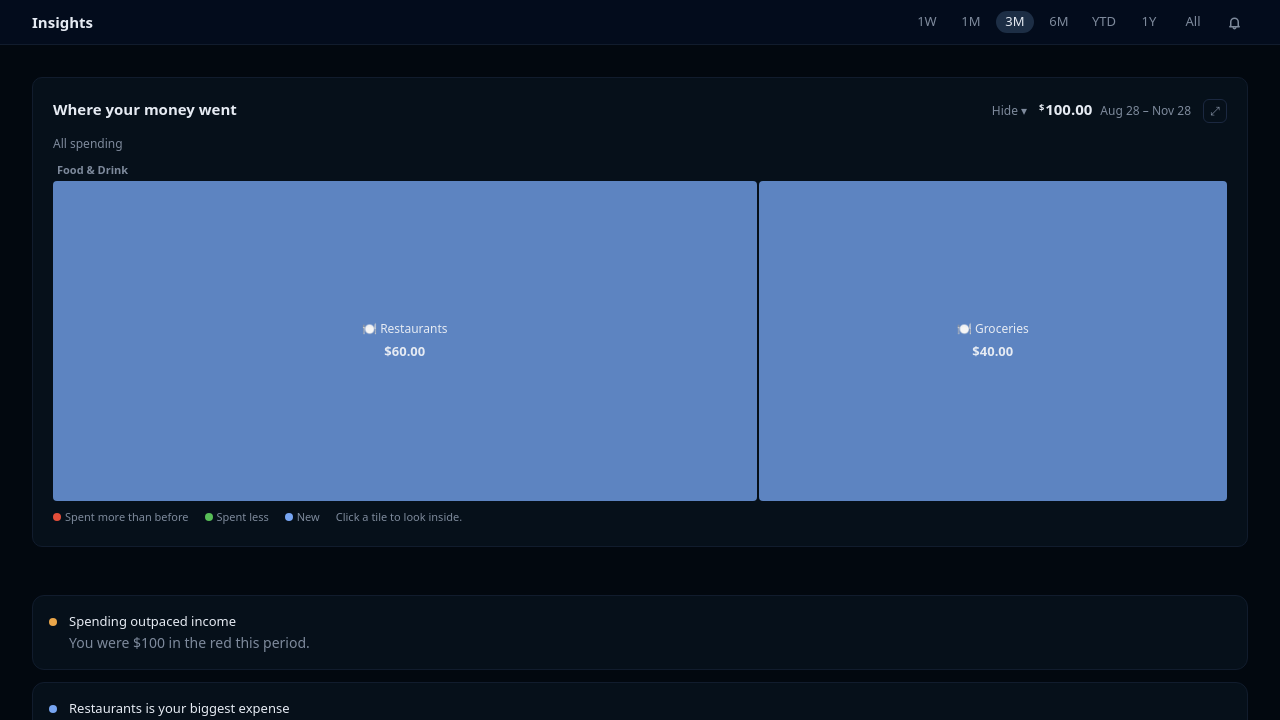
Insights spending map › reshapes when the range changes
Click the radio button labelled "1Y" at coordinates (1149, 22), box [1130,11,1168,33]
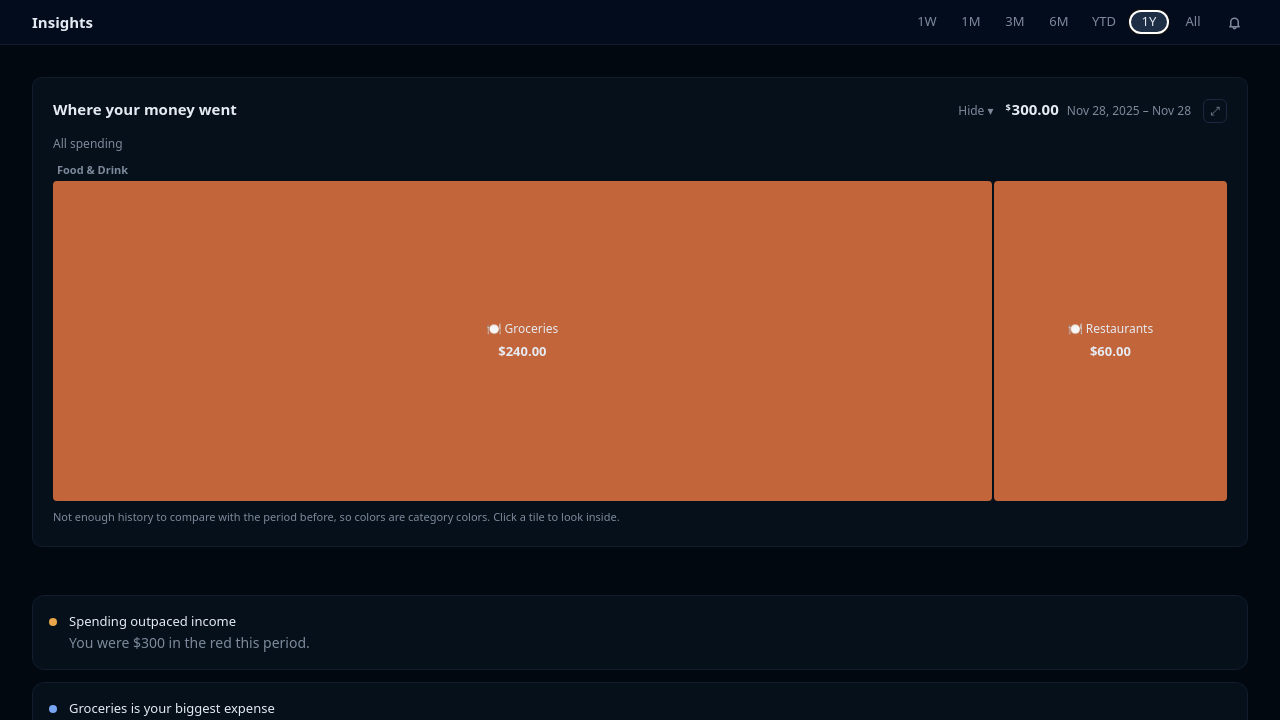
Expected: the table named "Spending by category" reads "Category Spent Share Change Groceries $240.00 80% Restaurants $60.00 20%", [52,524,257,583]
Expected: the element "Where your money went" shows "$300.00"
